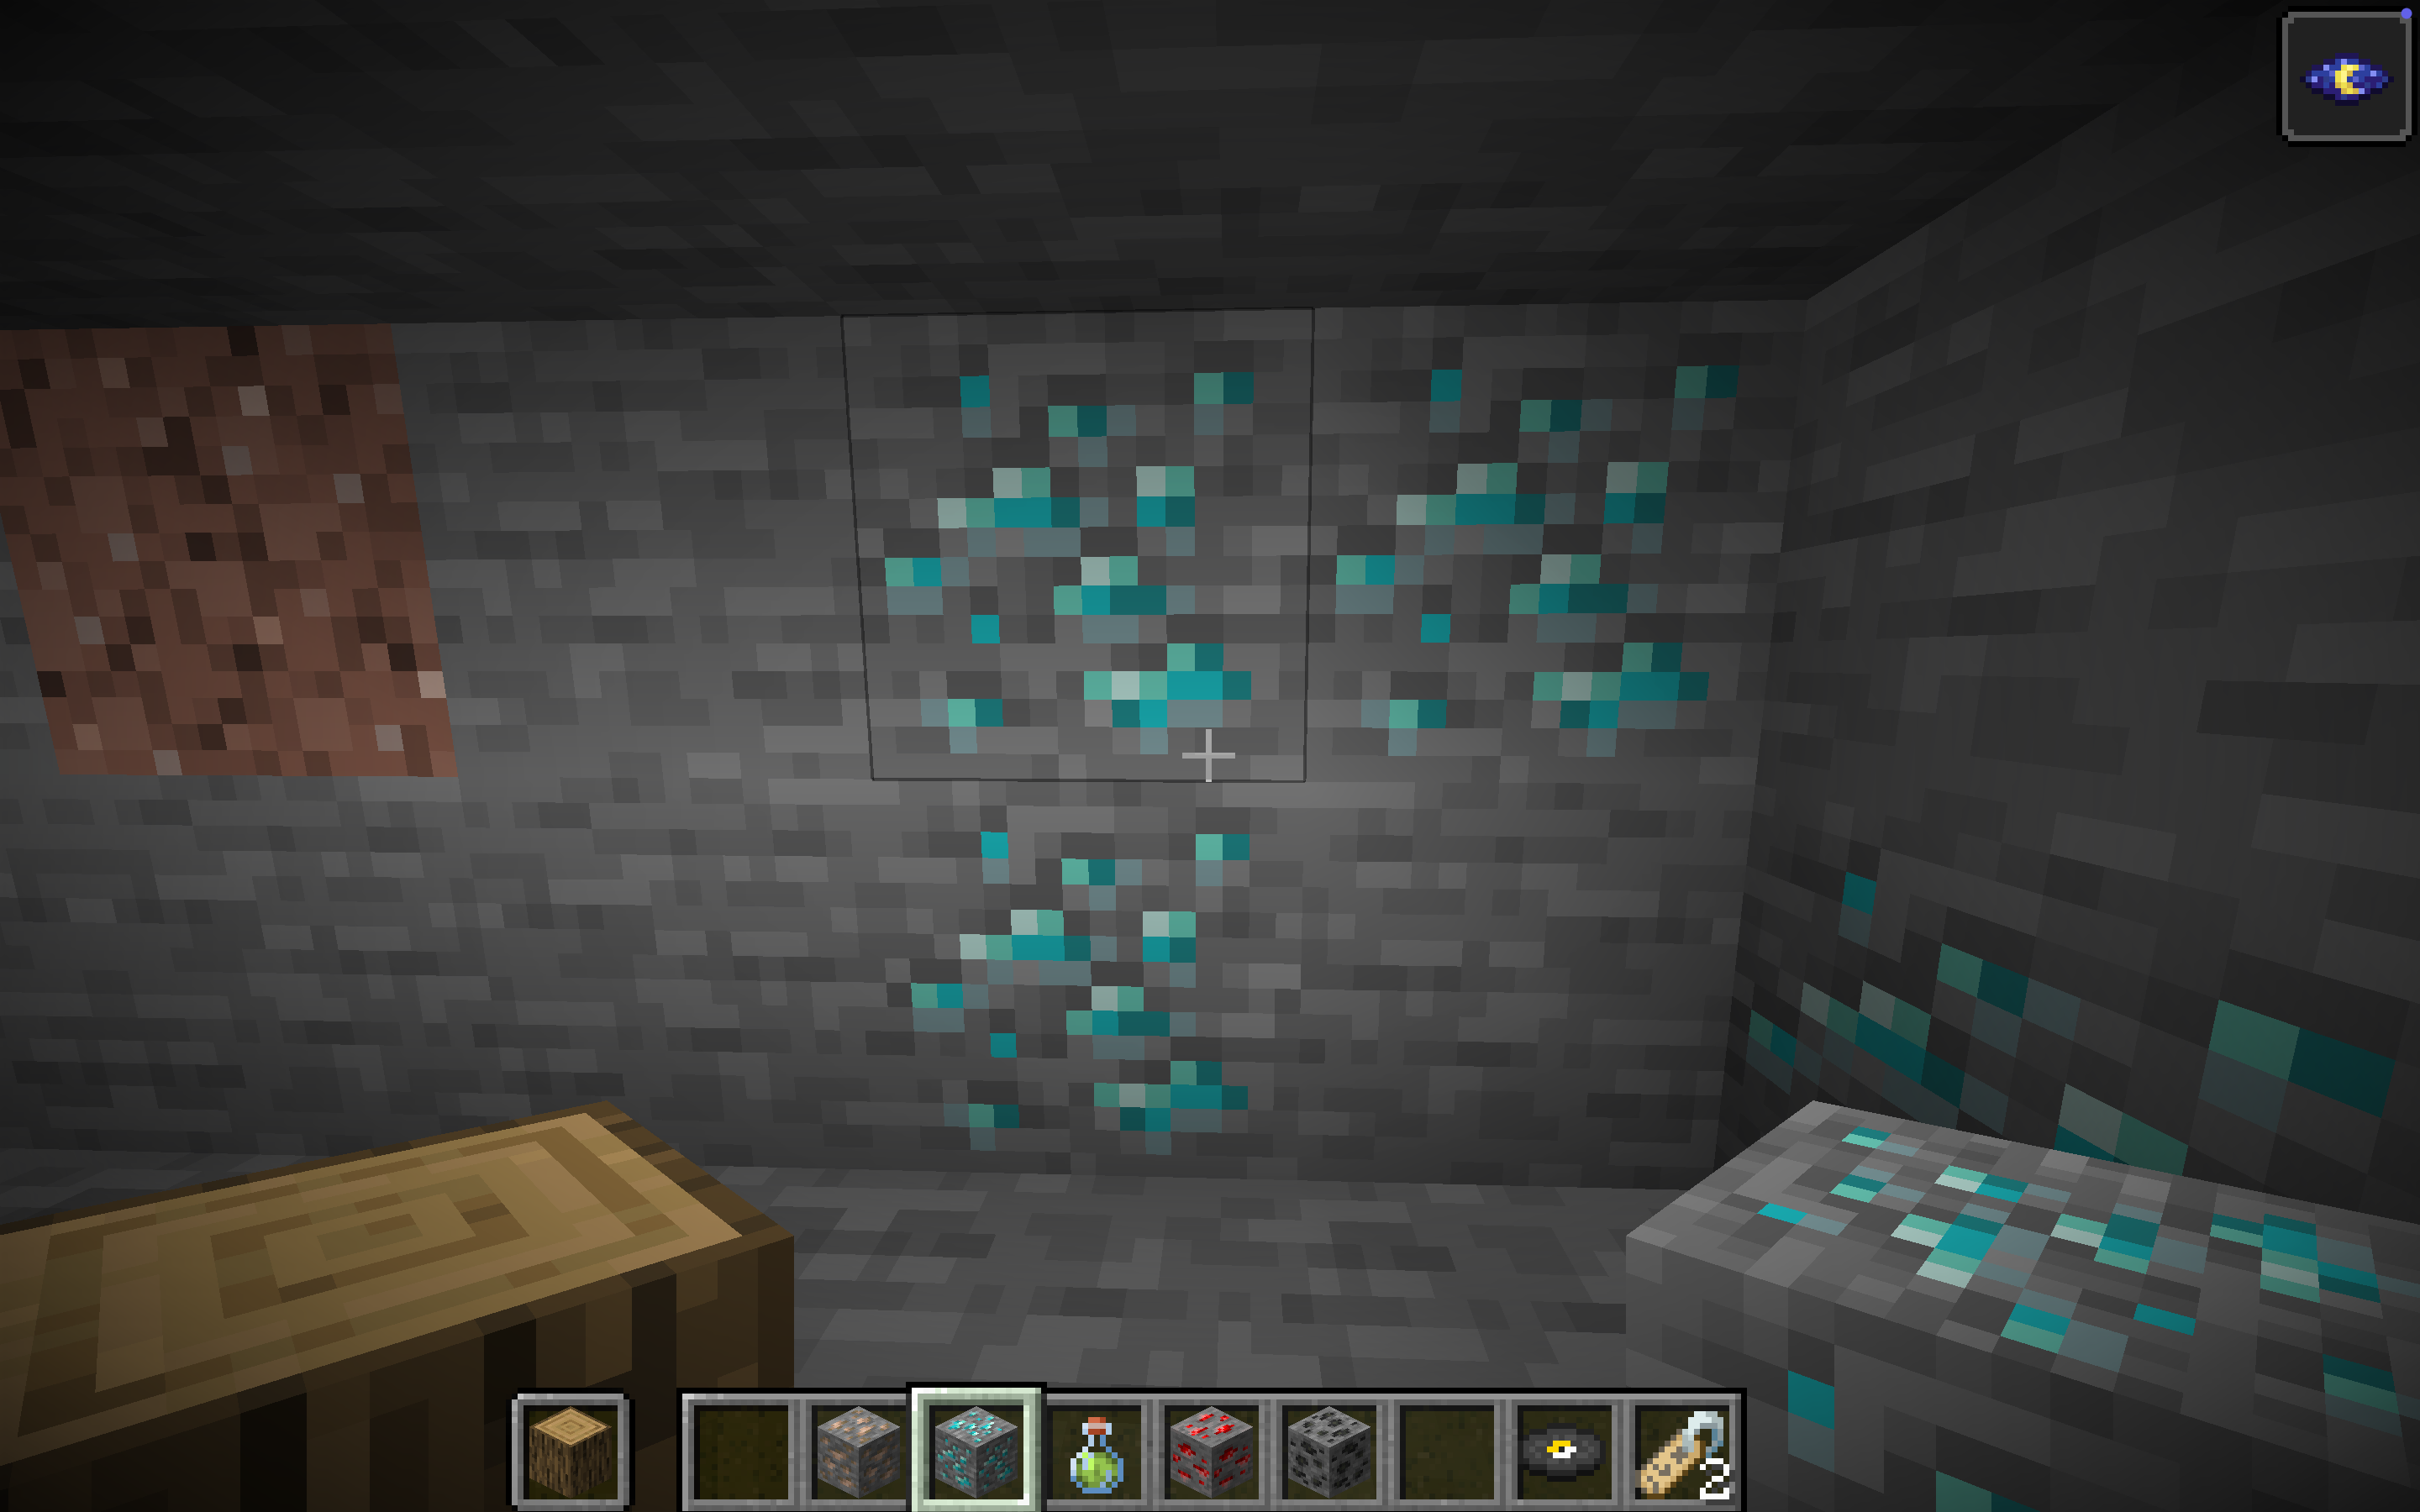diamond: (291, 258, 1779, 1136)
